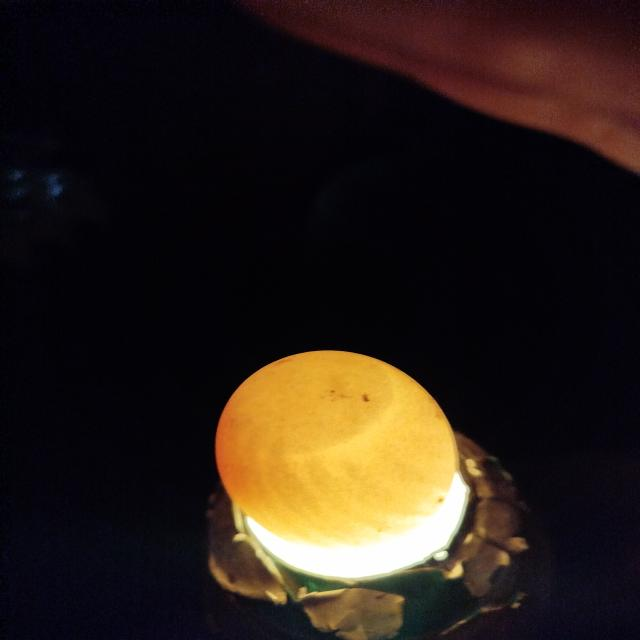Camara de Ar: (217, 350, 394, 454)
